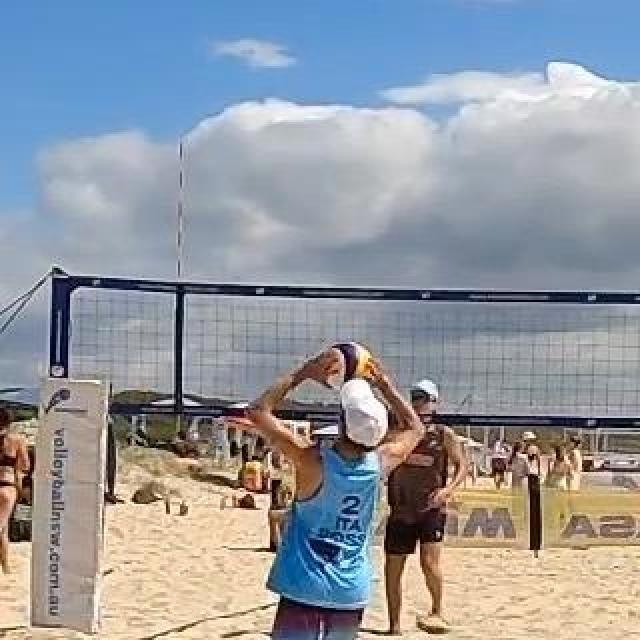volleyball: (320, 342, 374, 392)
